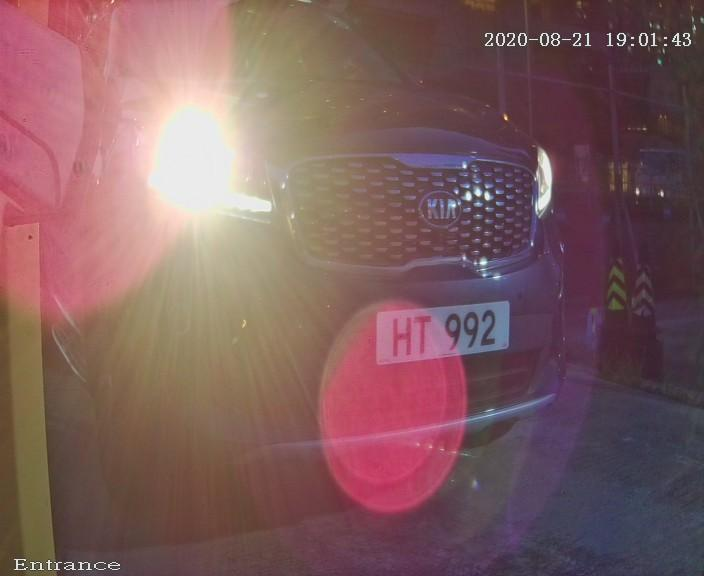Car: (23, 44, 657, 512)
License Plate: (362, 291, 521, 376)
